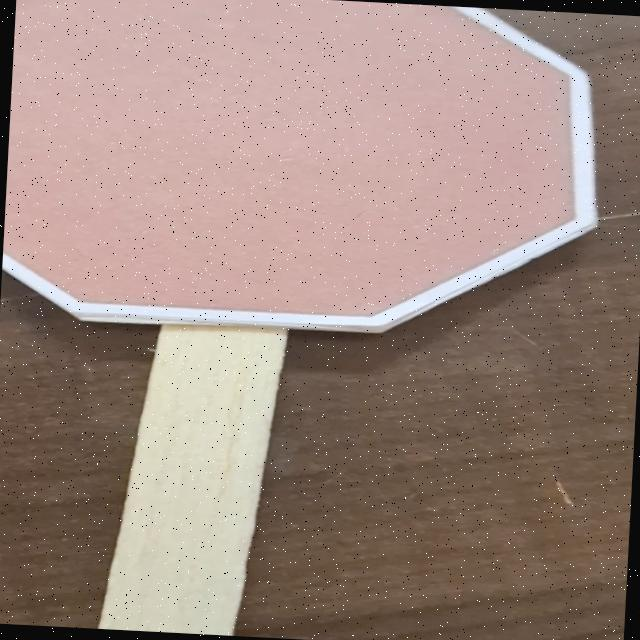Stop: (0, 0, 620, 353)
